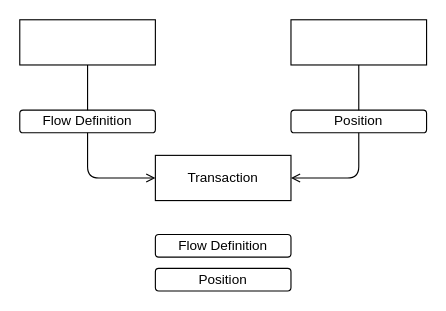
Some shapes in this 446 by 311 pixel diagram are drawn without their labels. The centre of each missing label's shape, as x and y in pixels:
"Accounting" goes at (87,42).
"Wallet" goes at (358,42).
